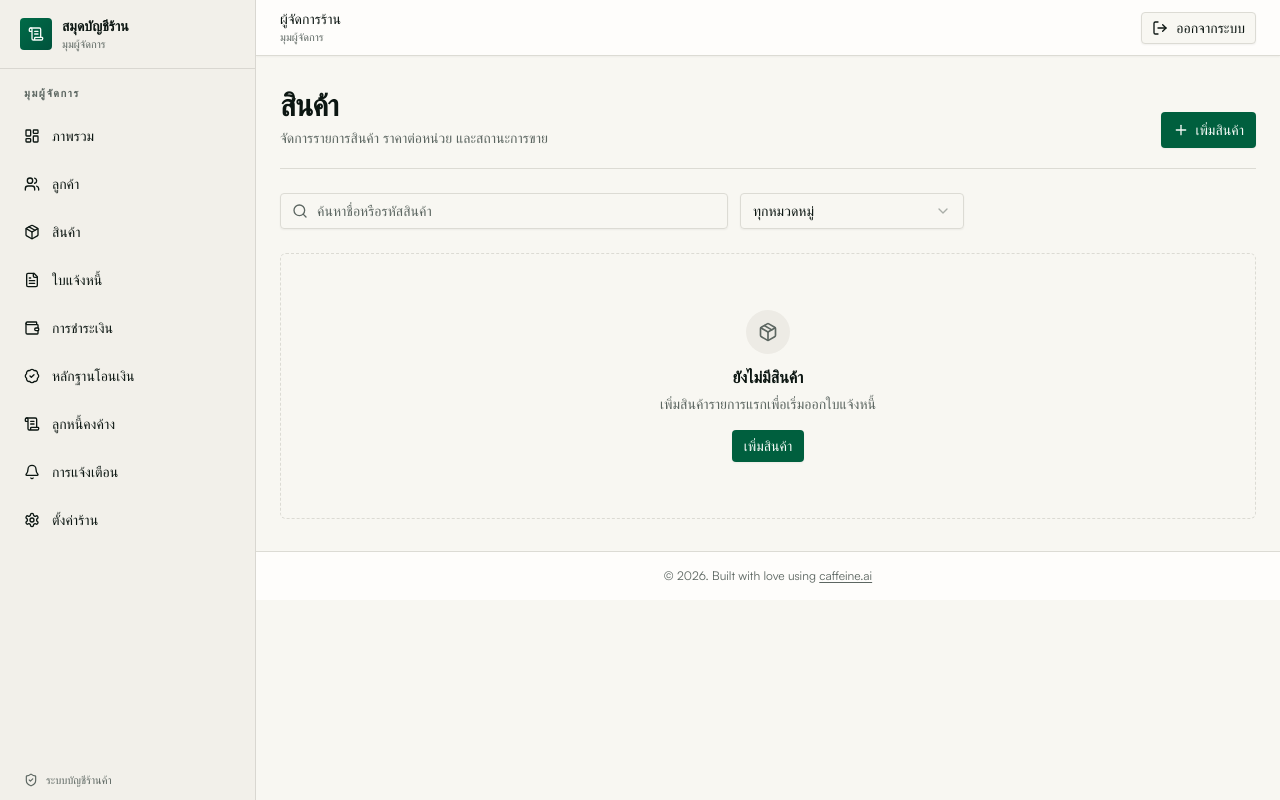
Test case: ProductsPage › rejects a non-numeric unit price before submitting
Click the 1st button "เพิ่มสินค้า": (1209, 130) x1=1161 y1=112 x2=1256 y2=148
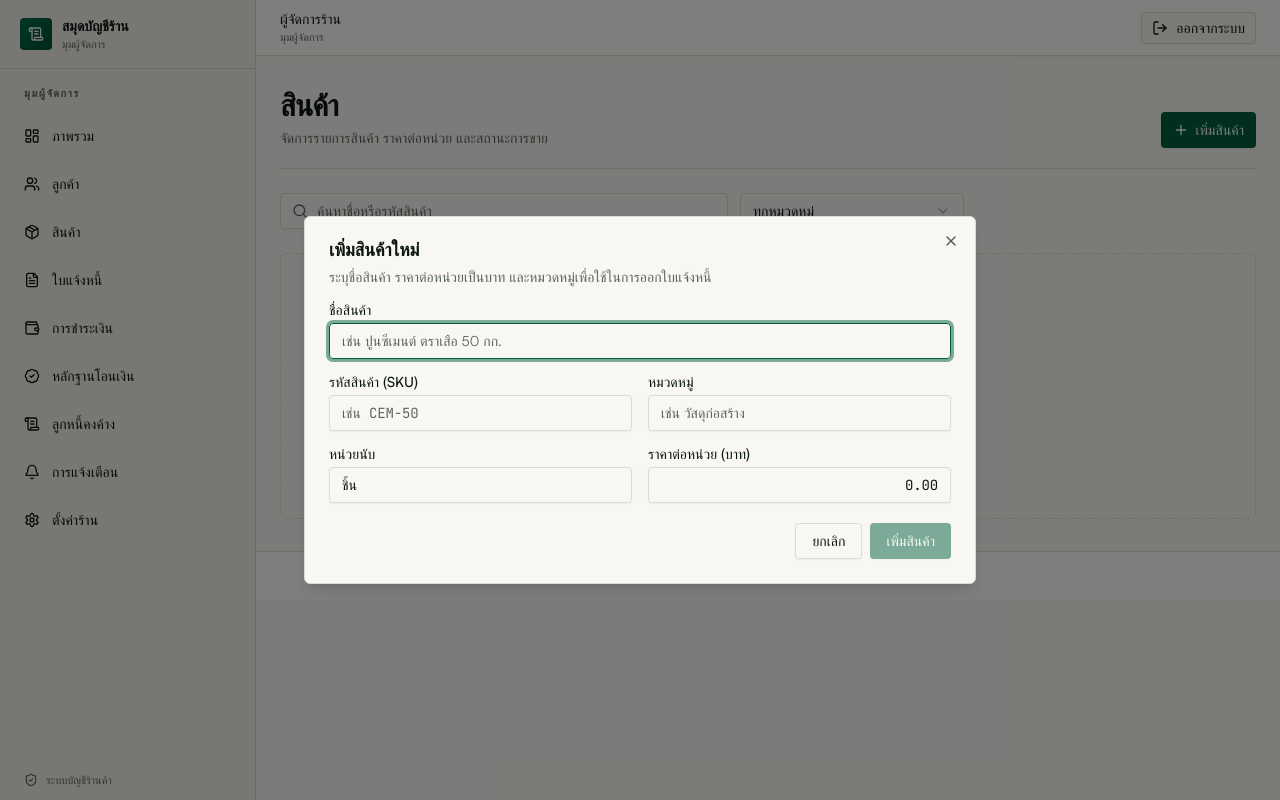
In the field labelled "ชื่อสินค้า": (640, 341) x1=329 y1=323 x2=951 y2=359, type "สินค้าทดสอบ"
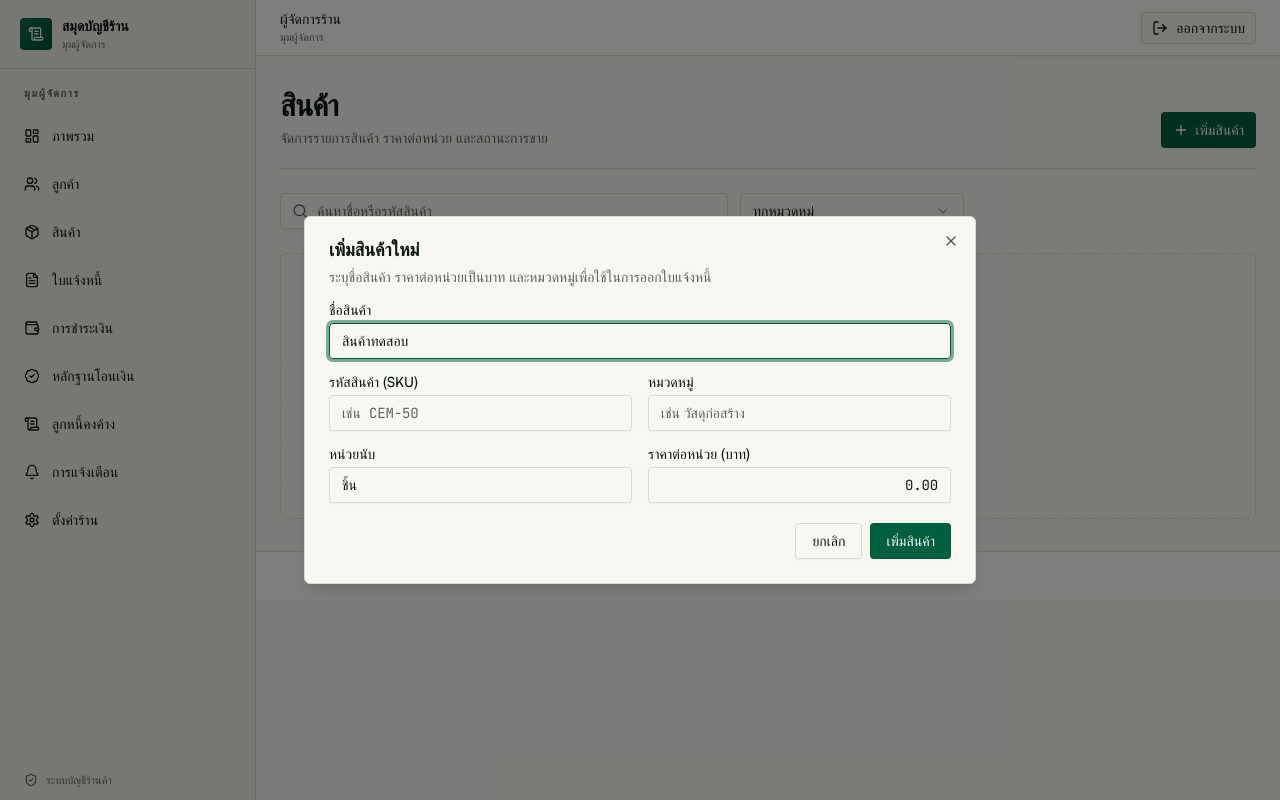
In the field labelled "ราคาต่อหน่วย (บาท)": (800, 485) x1=648 y1=467 x2=951 y2=503, type "ไม่ใช่ตัวเลข"
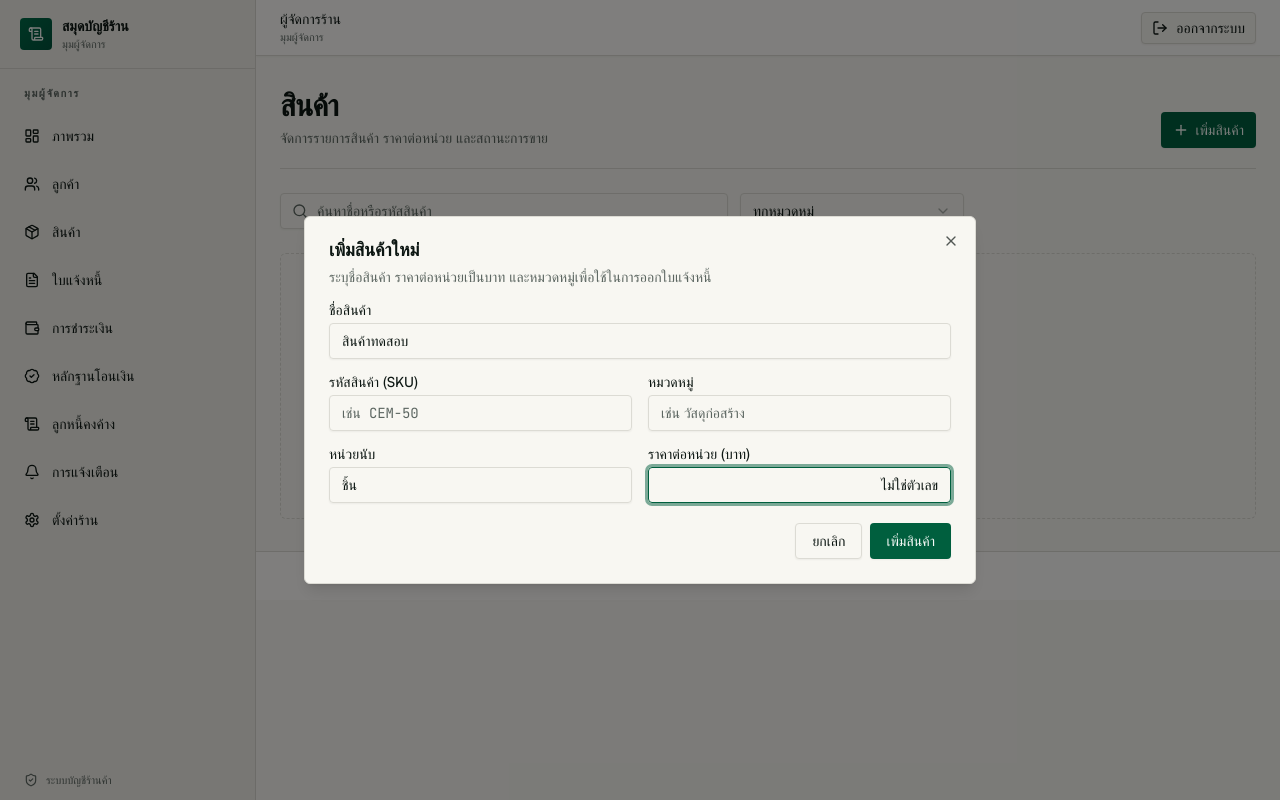
Click the button "เพิ่มสินค้า": (911, 541) x1=870 y1=523 x2=951 y2=559
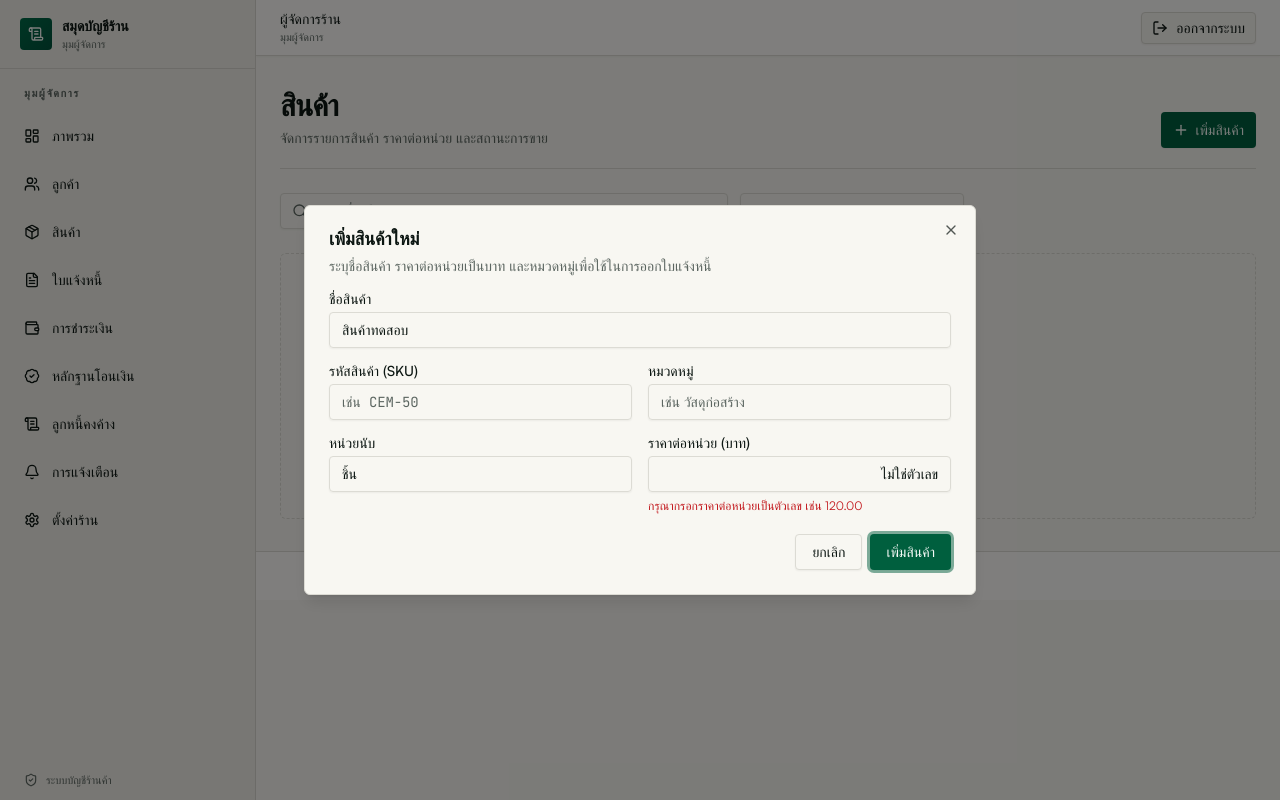
Expected: the text "กรุณากรอกราคาต่อหน่วยเป็นตัวเลข เช่น 120.00" is shown, x1=648 y1=498 x2=862 y2=513
